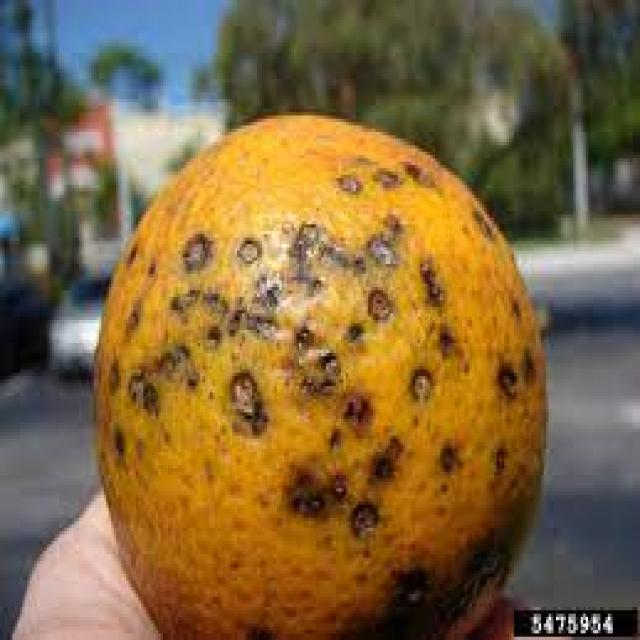black spot: (86, 93, 552, 640)
